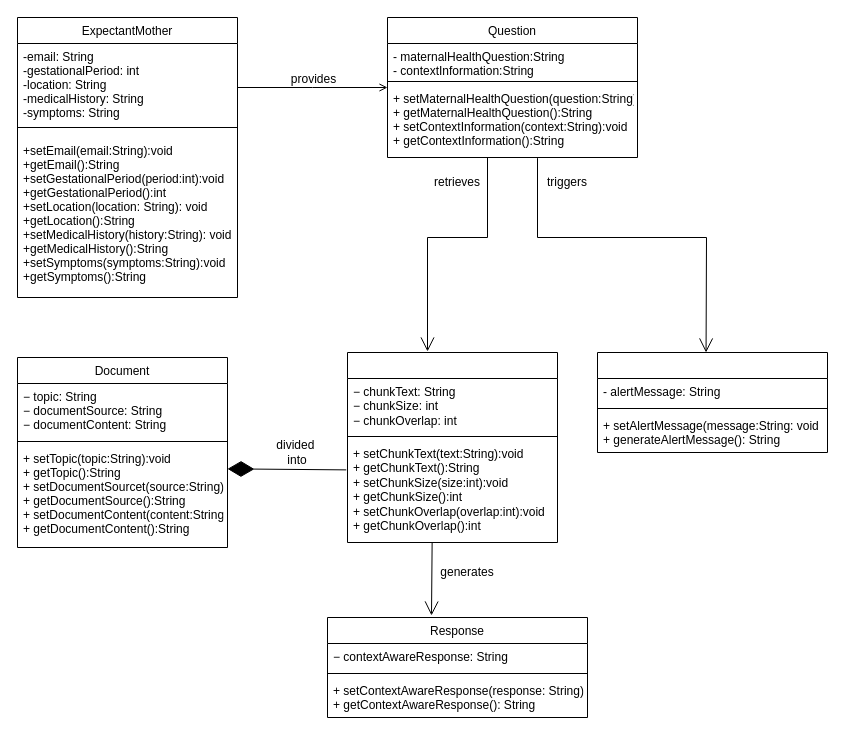
The diagram is 845 pixels wide and 738 high, and some of its shapes have lost their labels. Here are the shapes that lost their labels. From the top down, the box of each, then its label:
(596, 352, 828, 452): DangerSignAlert
(346, 352, 558, 542): DocumentChunk
